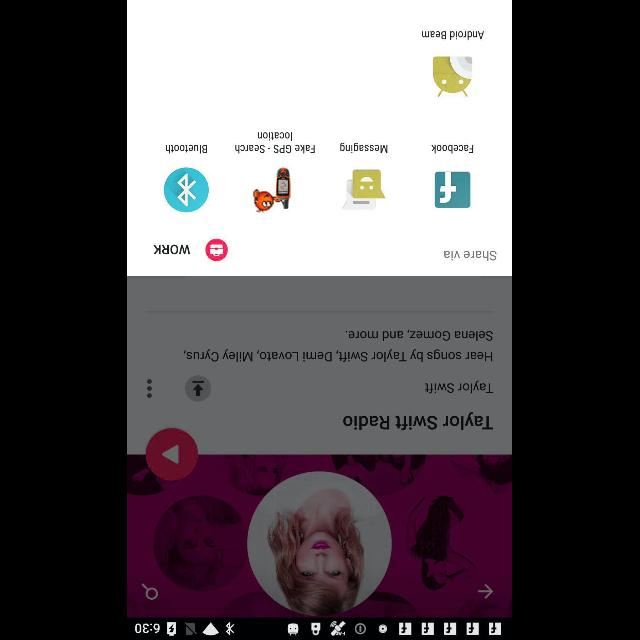button: (146, 428, 200, 480), (185, 374, 212, 402)
icon: (164, 168, 210, 212), (435, 172, 471, 208), (206, 238, 228, 262), (142, 582, 160, 600), (478, 583, 494, 599), (148, 378, 154, 398)
image: (128, 454, 512, 616), (254, 167, 292, 213), (433, 56, 473, 98), (344, 170, 386, 210)
panel: (128, 0, 512, 276)
text: (184, 328, 494, 362), (343, 412, 493, 431), (236, 132, 316, 154), (426, 380, 494, 394), (444, 250, 498, 262), (423, 30, 485, 40), (341, 142, 389, 154), (166, 144, 208, 154), (432, 144, 474, 154), (154, 244, 190, 254)
uppertaskbar: (128, 617, 512, 639)
